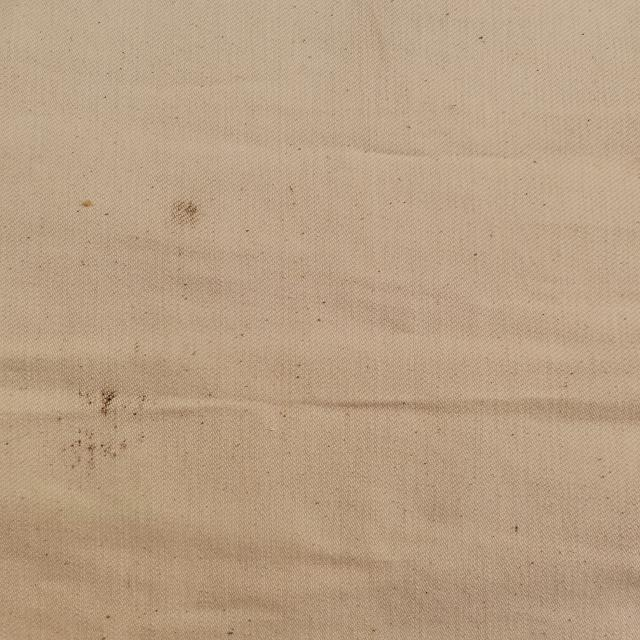taaaches: (49, 375, 163, 477), (160, 197, 214, 234), (70, 196, 112, 213)
